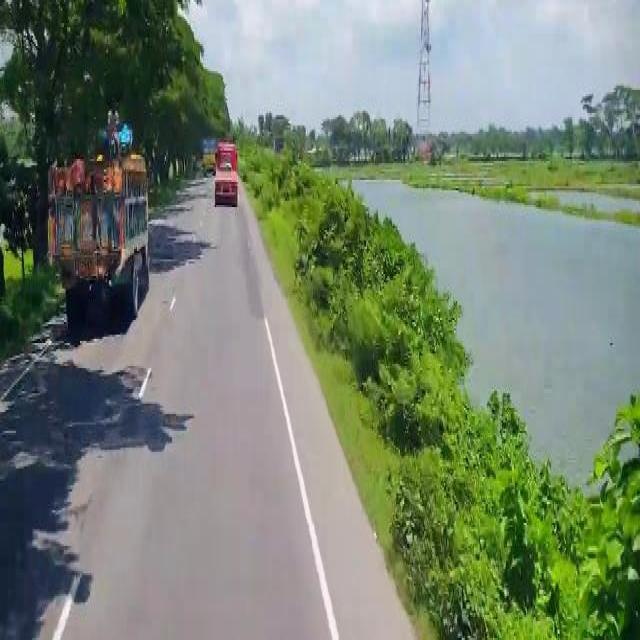pickup: (212, 134, 240, 207)
truck: (44, 91, 152, 338)
